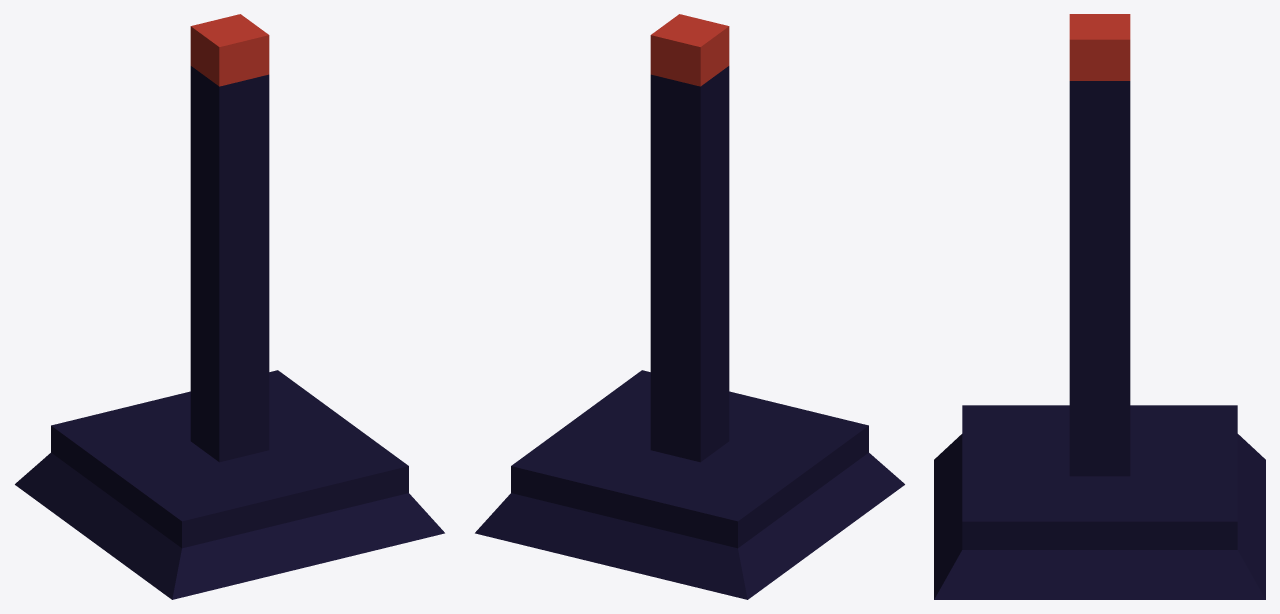
Rendered from Anten1.fbx.
The picture shows the model from 3 angles, left to right: view 1: azimuth 30°, elevation 25°; view 2: azimuth 150°, elevation 25°; view 3: azimuth 270°, elevation 25°; orthographic projection. The views are drawn at different scales.
Parts seen in each view (by area): view 1: Anten1; view 2: Anten1; view 3: Anten1.
Boxes of the visible parts, <box> form: Anten1: <box>15,14,444,599</box>; Anten1: <box>475,14,904,599</box>; Anten1: <box>934,14,1265,599</box>.
Size of the model in its own units: 19.28 by 32.24 by 19.28.
